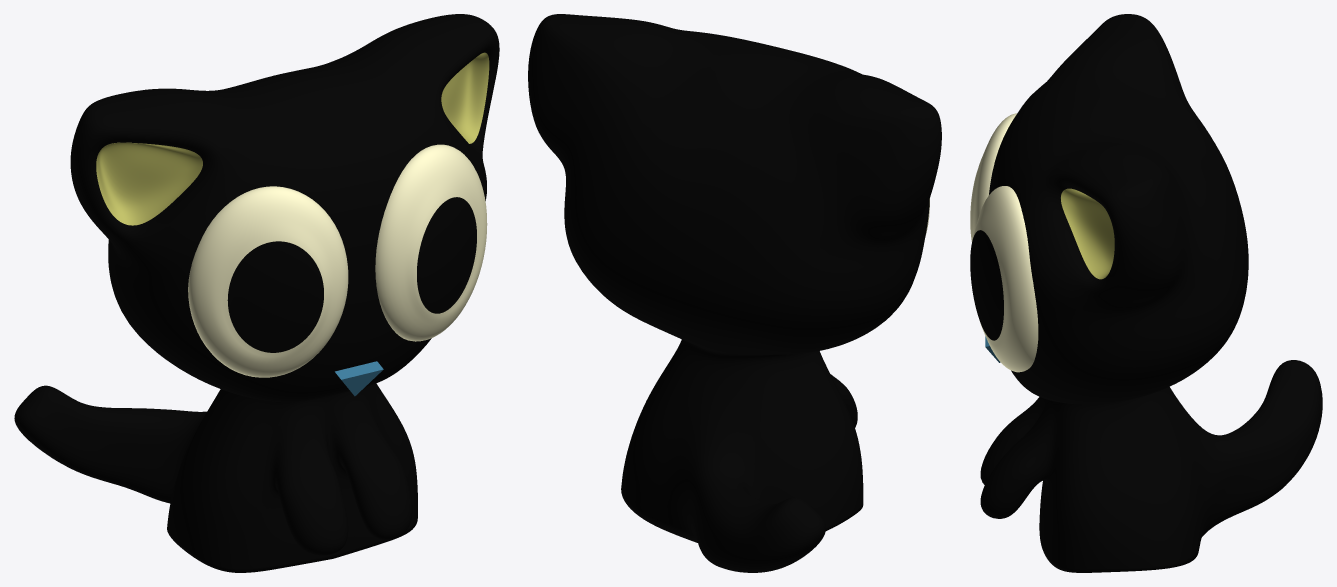
Rendered from enemy.fbx.
The picture shows the model from 3 angles, left to right: view 1: azimuth 30°, elevation 25°; view 2: azimuth 150°, elevation 25°; view 3: azimuth 270°, elevation 25°; orthographic projection. The views are drawn at different scales.
Visible parts, largest first — view 1: Cube, 球体, 圆环; view 2: Cube; view 3: Cube, 球体.
Part boxes in pixels (x1=…): Cube: x1=14, y1=14, x2=499, y2=572; 球体: x1=188, y1=144, x2=487, y2=377; 圆环: x1=335, y1=361, x2=383, y2=396; Cube: x1=528, y1=14, x2=941, y2=572; Cube: x1=980, y1=14, x2=1322, y2=572; 球体: x1=970, y1=113, x2=1038, y2=372.
Size of the model in its own units: 369 by 398 by 287.
